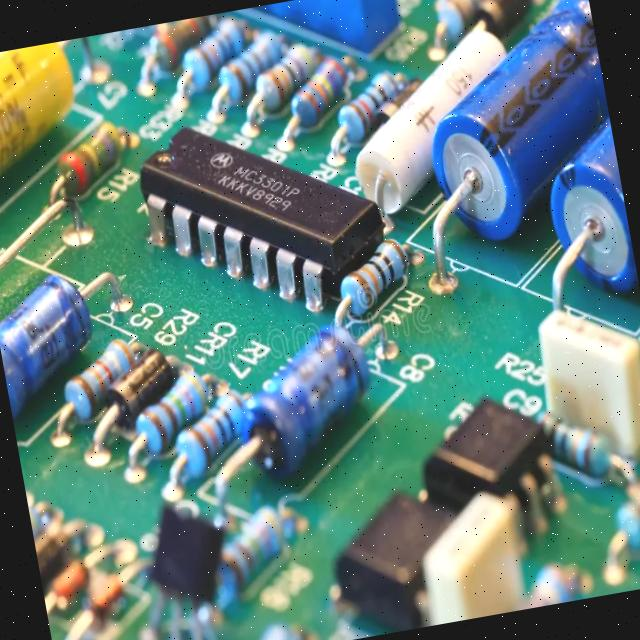IC: (128, 94, 398, 346)
diode: (109, 352, 179, 419)
resistor: (127, 368, 214, 456), (165, 396, 248, 475), (332, 238, 416, 316), (51, 120, 128, 200), (53, 342, 138, 414), (244, 36, 325, 104), (206, 24, 274, 96), (332, 72, 406, 138), (284, 55, 352, 126), (176, 22, 241, 84)
